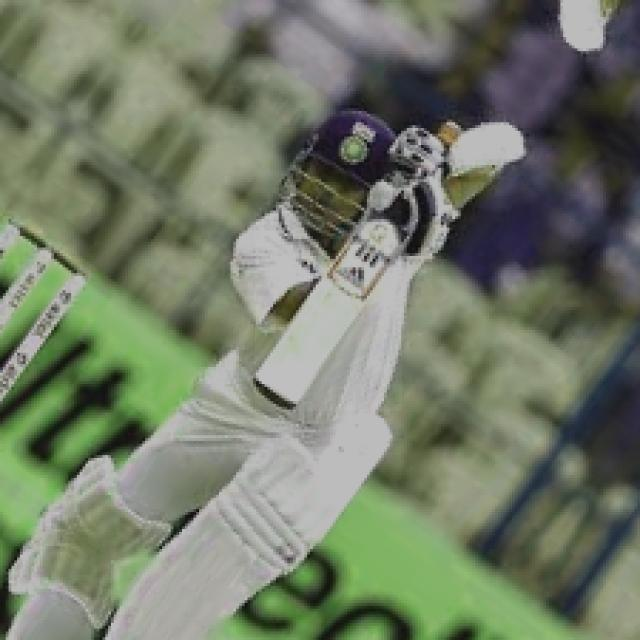bat: (253, 199, 409, 416)
toe: (251, 377, 297, 405)
